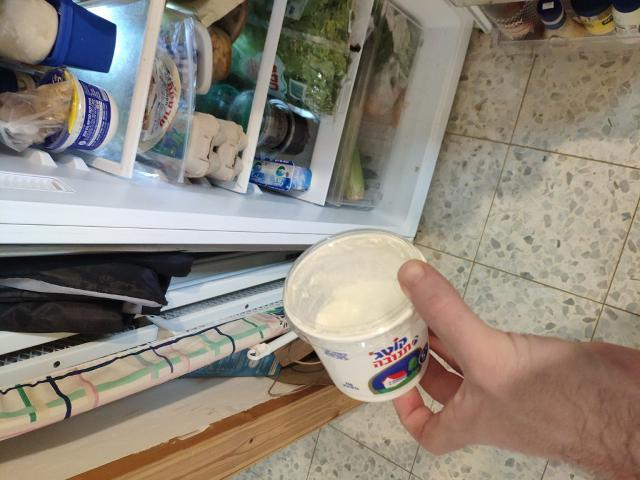cotage: (289, 225, 454, 394)
